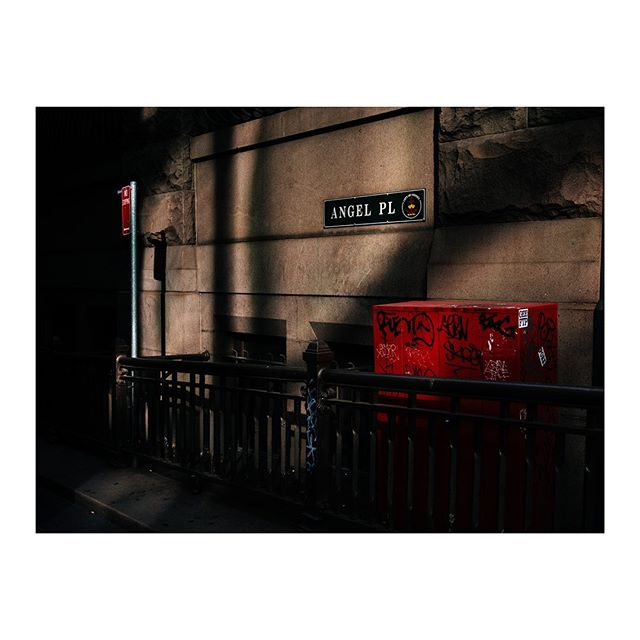graffiti: (373, 296, 543, 381)
sign: (321, 181, 426, 224), (108, 180, 150, 241)
